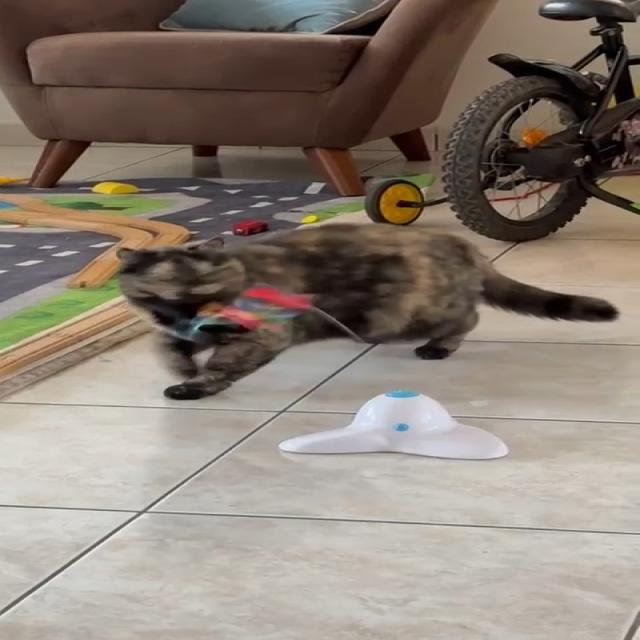authorized: (113, 221, 619, 401)
